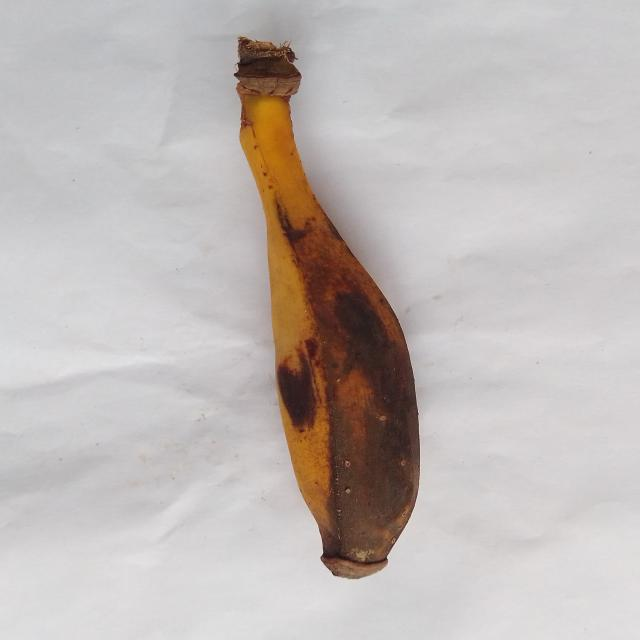banana: (236, 38, 419, 577)
